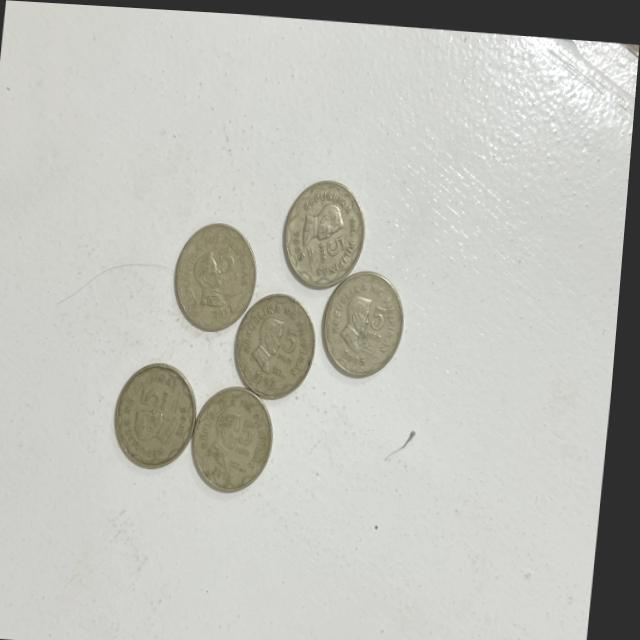5_Old_Front: (238, 407, 270, 458), (367, 294, 397, 345), (142, 375, 181, 414), (317, 226, 355, 263), (219, 238, 247, 283), (280, 321, 307, 362)
